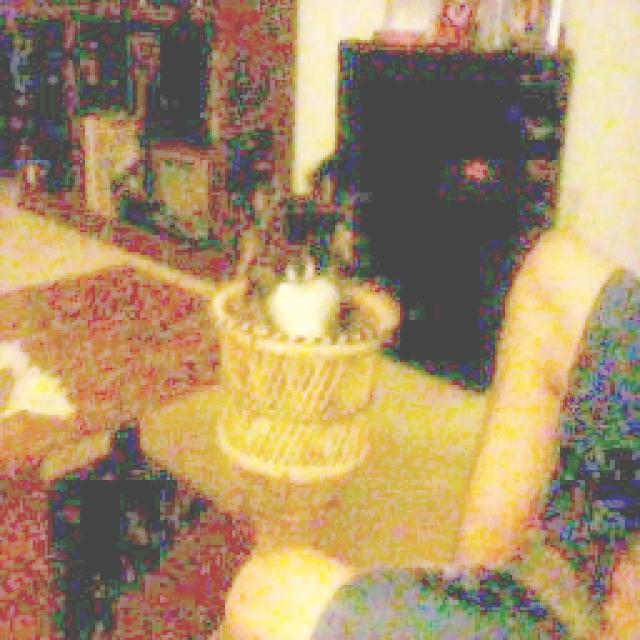cat: (249, 191, 358, 356)
